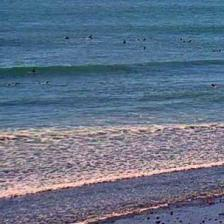surfer: (8, 82, 19, 86), (38, 81, 49, 84), (85, 36, 92, 40), (137, 38, 146, 41), (183, 40, 191, 43), (213, 50, 220, 53), (211, 83, 216, 87), (32, 69, 36, 73), (123, 40, 126, 44), (144, 46, 146, 50), (65, 37, 68, 39), (180, 38, 182, 40)
